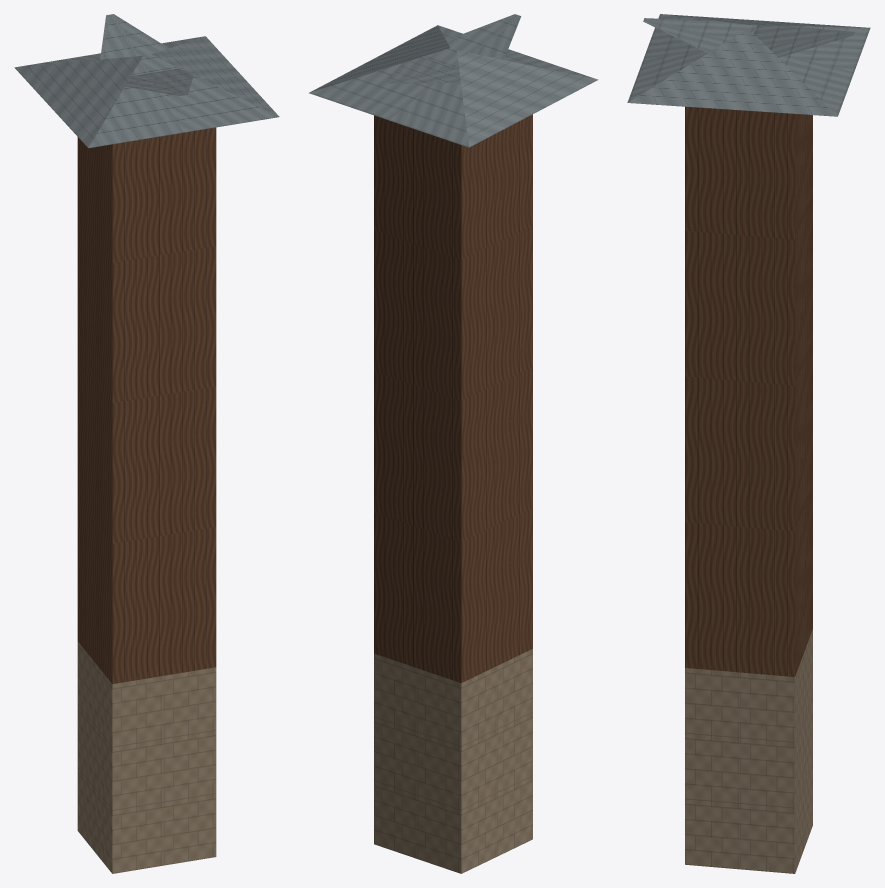
File: bld_c-20_17_526.gltf
The picture shows the model from 3 angles, left to right: view 1: azimuth 30°, elevation 25°; view 2: azimuth 150°, elevation 25°; view 3: azimuth 270°, elevation 25°; orthographic projection. The views are drawn at different scales.
Parts seen in each view (by area): view 1: bld_c-20_17_526; view 2: bld_c-20_17_526; view 3: bld_c-20_17_526.
Part boxes in pixels (box(x1,y1,x2,y2)): bld_c-20_17_526: box(14, 14, 279, 873); bld_c-20_17_526: box(309, 14, 598, 873); bld_c-20_17_526: box(627, 14, 870, 873).
Size of the model in its own units: 5.71 by 21.2 by 5.71.
Materials: 3 (3 with a texture image).
